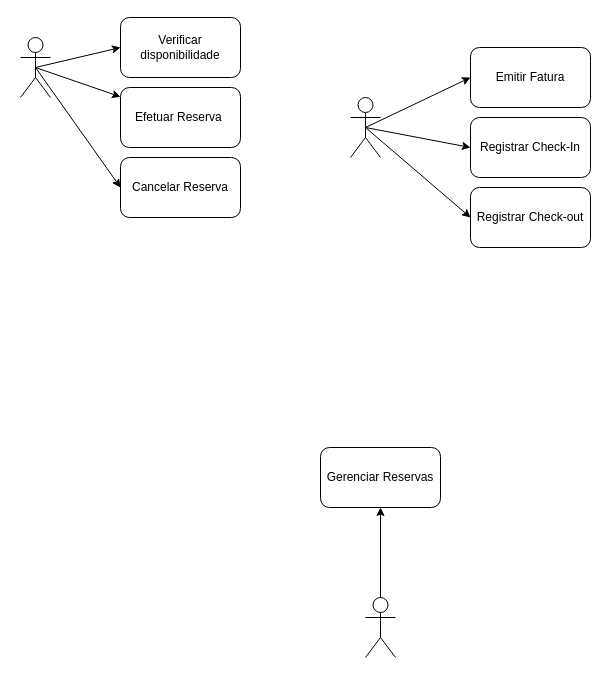
This 608x696 diagram has some shape labels left out. Each missing label, with the centre of its shape:
Cliente: point (35, 67)
Gerente: point (380, 627)
Recpicionista: point (365, 127)
